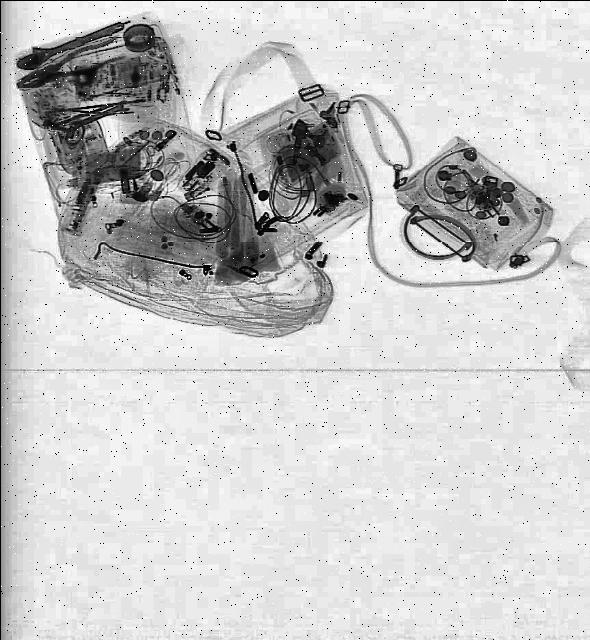Pliers: (11, 34, 129, 98)
Wrench: (11, 13, 126, 75)
